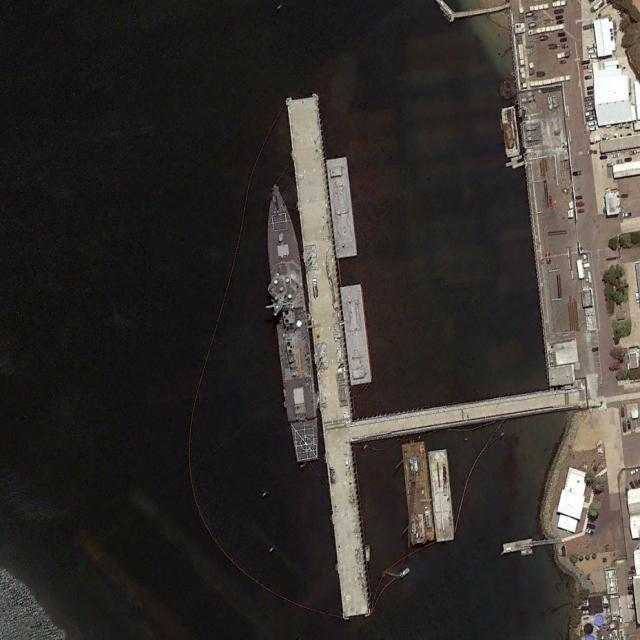Destroyer: (257, 180, 324, 465)
